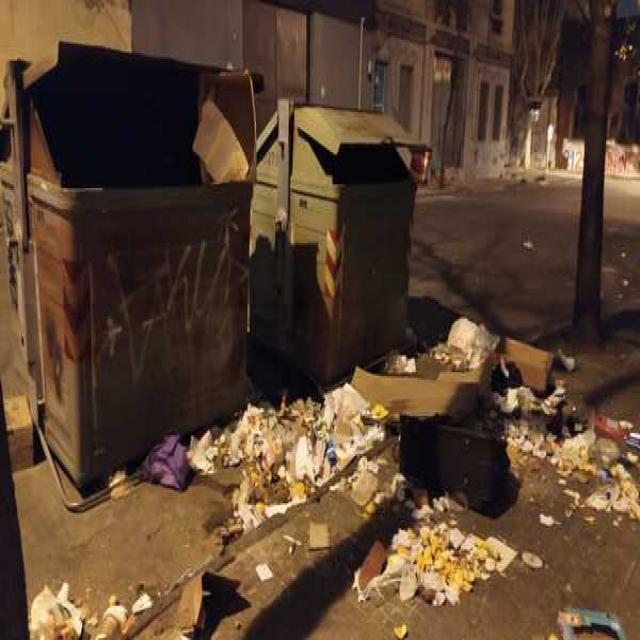garbage: (144, 402, 527, 608), (366, 315, 639, 528), (15, 554, 257, 638)
